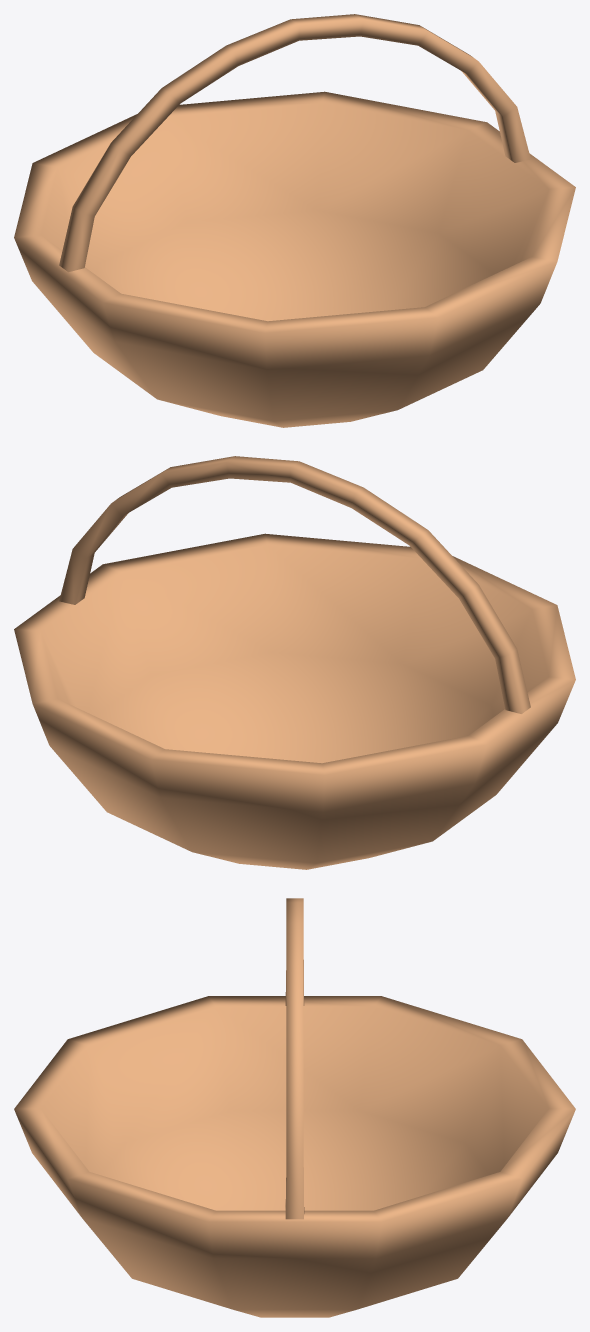
Rendered from Cesta_1.fbx.
3 views of the same model, one above another, from view 1: azimuth 30°, elevation 25°; view 2: azimuth 150°, elevation 25°; view 3: azimuth 270°, elevation 25° (orthographic). The views are drawn at different scales.
Parts seen in each view (by area): view 1: Cesta_1; view 2: Cesta_1; view 3: Cesta_1.
Part boxes in pixels (left/top/right/bottom): Cesta_1: left=14, top=14, right=575, bottom=427; Cesta_1: left=14, top=456, right=575, bottom=869; Cesta_1: left=14, top=898, right=575, bottom=1317.
Bounding box in the file's own units: 0.4854 × 0.4617 × 0.3342.
